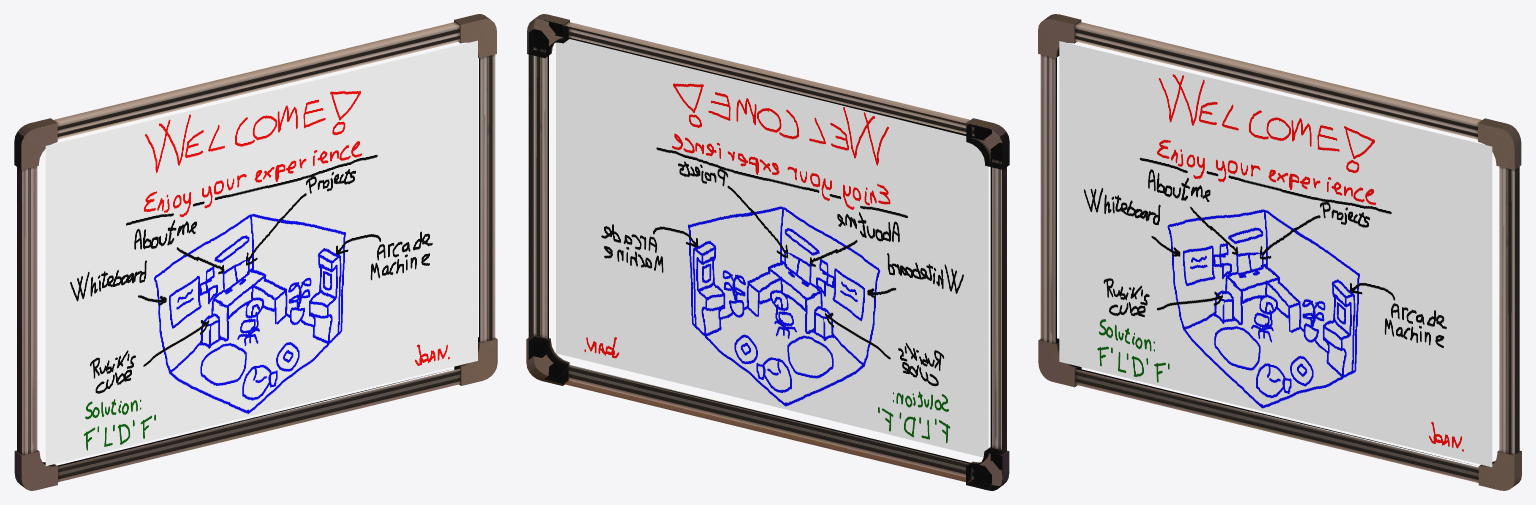
Rendered from whiteboard.glb.
3 views of the same model, side by side, from view 1: azimuth 30°, elevation 25°; view 2: azimuth 150°, elevation 25°; view 3: azimuth 330°, elevation 25° (orthographic).
Parts seen in each view (by area): view 1: Whiteboard_Canvas, Whiteboard; view 2: Whiteboard_Canvas, Whiteboard; view 3: Whiteboard_Canvas, Whiteboard.
Part boxes in pixels (box(x1,y1,x2,y2)): Whiteboard_Canvas: box(45, 40, 477, 465); Whiteboard: box(14, 14, 497, 490); Whiteboard_Canvas: box(556, 39, 988, 457); Whiteboard: box(526, 14, 1009, 490); Whiteboard_Canvas: box(1059, 41, 1492, 467); Whiteboard: box(1038, 14, 1521, 490).
Size of the model in its own units: 2.77 by 2.01 by 0.0854.
2 materials, 2 textured.
